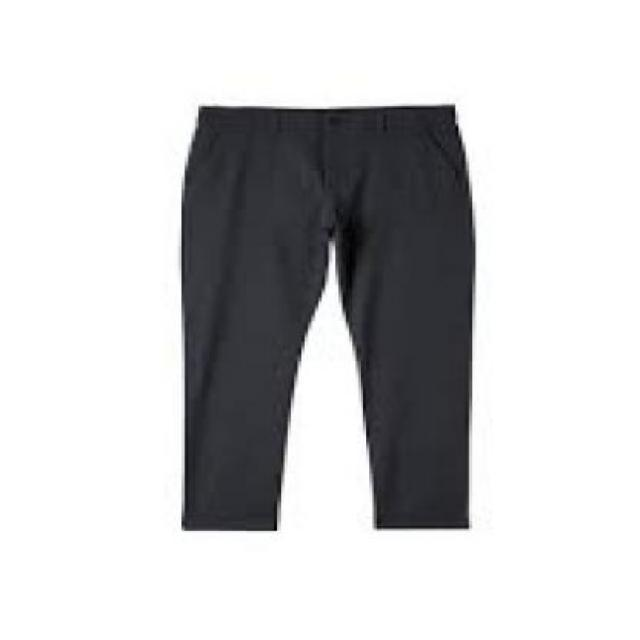pants: (181, 102, 477, 529)
